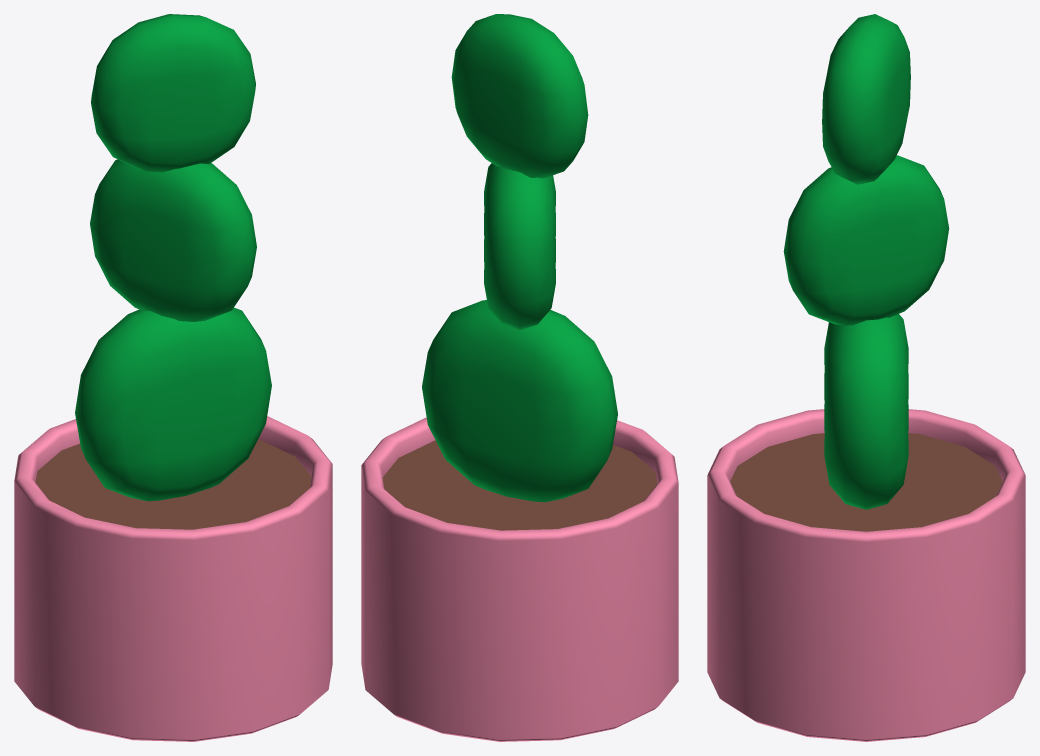
The model's file is Town_6_Plant_2.glb.
The picture shows the model from 3 angles, left to right: view 1: azimuth 30°, elevation 25°; view 2: azimuth 150°, elevation 25°; view 3: azimuth 270°, elevation 25°; orthographic projection.
Visible parts, largest first — view 1: Town_6_Plant_2; view 2: Town_6_Plant_2; view 3: Town_6_Plant_2.
Boxes of the visible parts, x1=… form: Town_6_Plant_2: x1=14, y1=14, x2=332, y2=741; Town_6_Plant_2: x1=361, y1=14, x2=678, y2=741; Town_6_Plant_2: x1=707, y1=14, x2=1025, y2=741.
Size of the model in its own units: 0.2213 by 0.5019 by 0.2213.
1 material, 1 textured.
